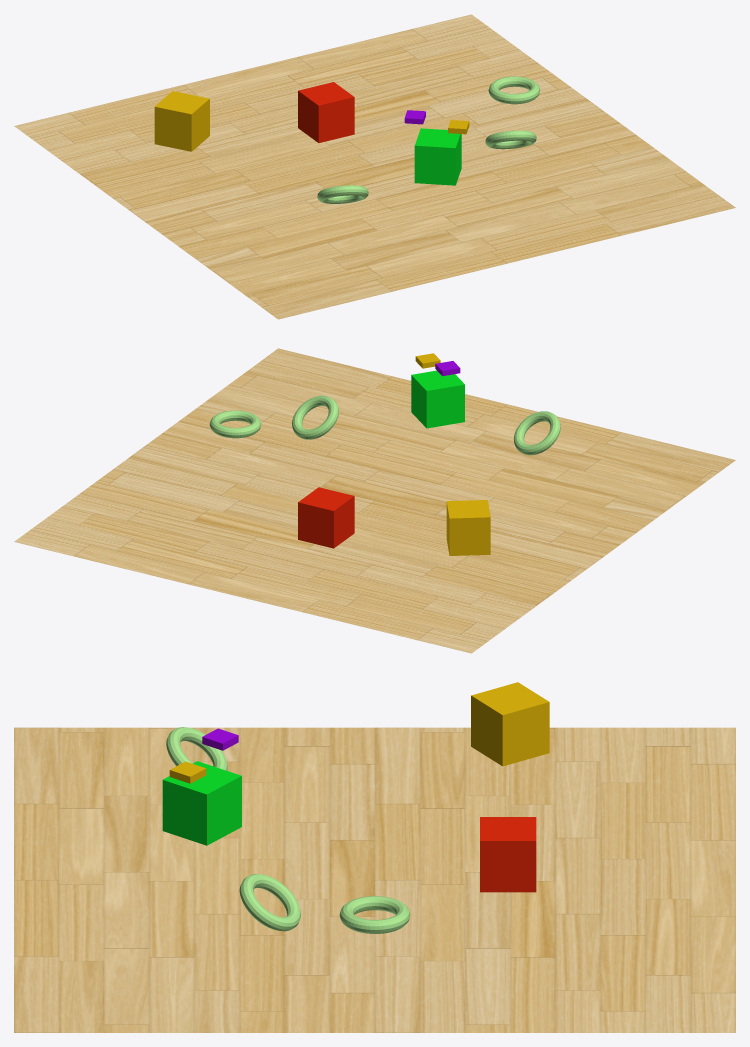
The picture shows the model from 3 angles, top to bottom: view 1: azimuth 30°, elevation 25°; view 2: azimuth 150°, elevation 25°; view 3: azimuth 270°, elevation 25°; orthographic projection. The views are drawn at different scales.
Parts seen in each view (by area): view 1: Plane, Cube.001, Cube.004, Cube, Torus, Torus.001, Torus.002; view 2: Plane, Cube.001, Cube, Cube.004, Torus.002, Torus.001, Torus; view 3: Plane, Cube.004, Cube, Cube.001, Torus.001, Torus, Torus.002, Cube.002.
Part boxes in pixels (bbox=[...]): Plane: bbox=[14, 14, 735, 319]; Cube.001: bbox=[298, 82, 354, 142]; Cube.004: bbox=[154, 91, 209, 151]; Cube: bbox=[414, 128, 461, 185]; Torus: bbox=[488, 76, 540, 104]; Torus.001: bbox=[485, 130, 536, 149]; Torus.002: bbox=[317, 185, 368, 203]; Plane: bbox=[14, 348, 735, 653]; Cube.001: bbox=[298, 487, 354, 548]; Cube: bbox=[411, 370, 464, 428]; Cube.004: bbox=[446, 500, 490, 555]; Torus.002: bbox=[514, 411, 560, 455]; Torus.001: bbox=[292, 395, 338, 439]; Torus: bbox=[209, 410, 261, 438]; Plane: bbox=[14, 727, 735, 1032]; Cube.004: bbox=[471, 682, 549, 766]; Cube: bbox=[162, 761, 241, 845]; Cube.001: bbox=[480, 817, 536, 892]; Torus.001: bbox=[239, 874, 300, 931]; Torus: bbox=[339, 896, 410, 933]; Torus.002: bbox=[166, 727, 227, 770]; Cube.002: bbox=[169, 761, 206, 783].
Bounding box in the file's own units: 25.55 × 5.21 × 25.55.
6 materials, 1 textured.
